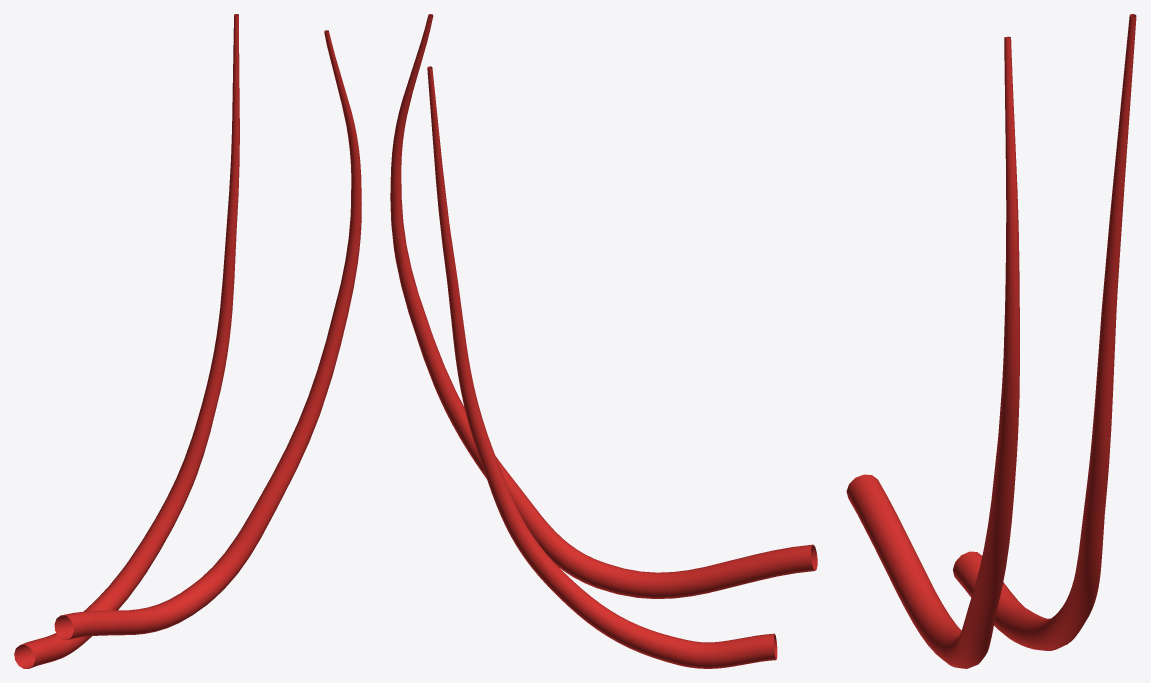
Rendered from circulatorio-middle-meningeal-artery-r.glb.
The picture shows the model from 3 angles, left to right: view 1: azimuth 30°, elevation 25°; view 2: azimuth 150°, elevation 25°; view 3: azimuth 270°, elevation 25°; orthographic projection. The views are drawn at different scales.
Visible parts, largest first — view 1: Accessory branch of middle meningeal artery.r, Middle meningeal artery.r; view 2: Accessory branch of middle meningeal artery.r, Middle meningeal artery.r; view 3: Accessory branch of middle meningeal artery.r, Middle meningeal artery.r.
Part boxes in pixels (<box>): Accessory branch of middle meningeal artery.r: <box>54,30,361,639</box>; Middle meningeal artery.r: <box>14,14,239,668</box>; Accessory branch of middle meningeal artery.r: <box>390,14,817,598</box>; Middle meningeal artery.r: <box>427,66,777,668</box>; Accessory branch of middle meningeal artery.r: <box>846,36,1019,668</box>; Middle meningeal artery.r: <box>953,14,1136,650</box>.
Size of the model in its own units: 0.0162 by 0.0242 by 0.00824.
